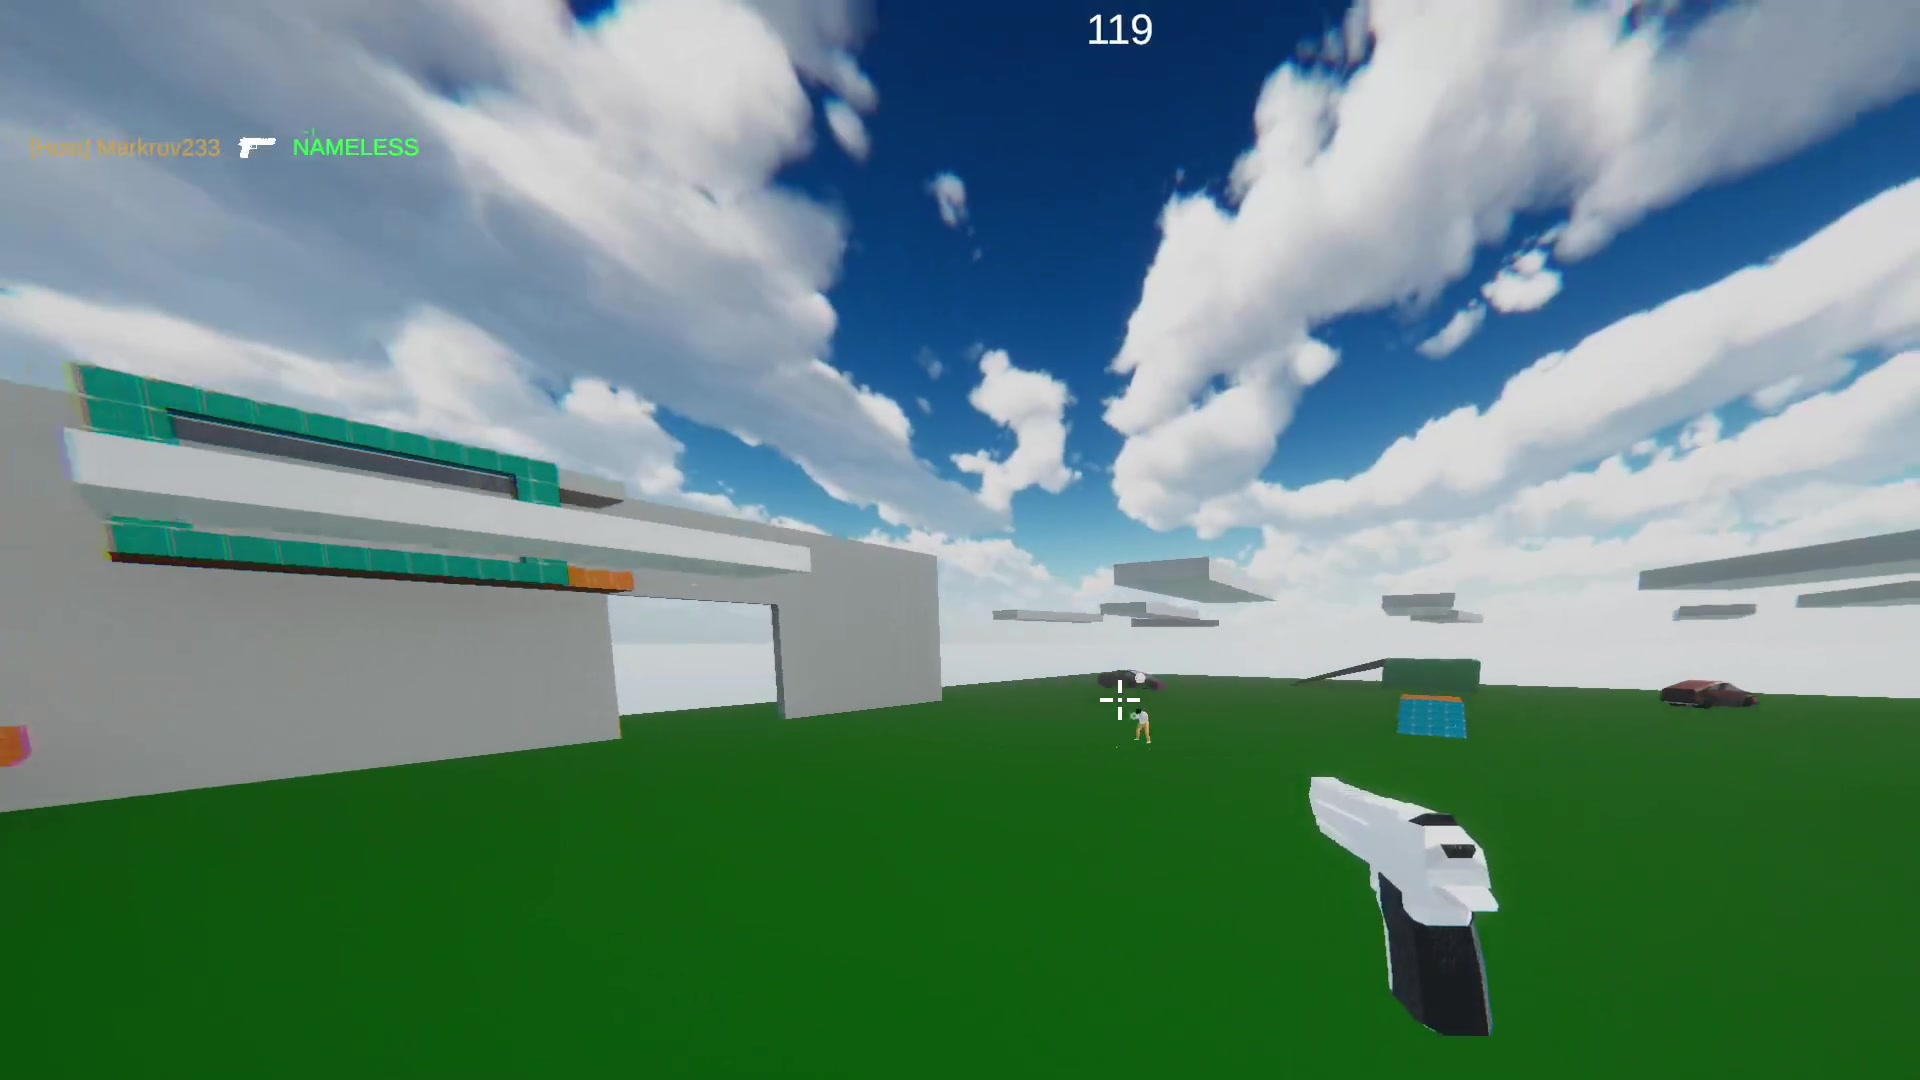human: (1130, 702, 1154, 753)
